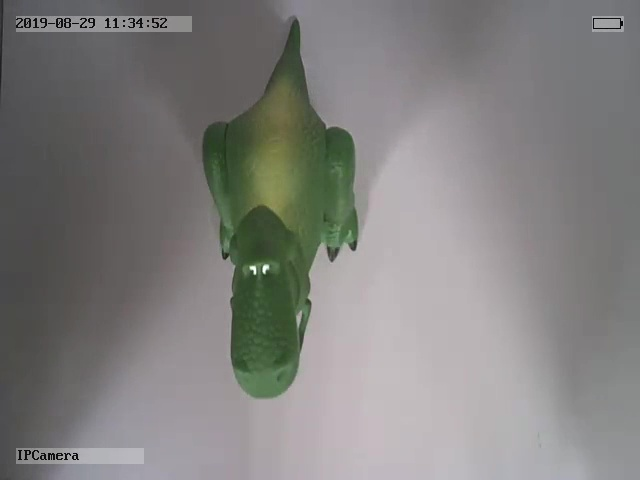rex: (198, 15, 359, 402)
